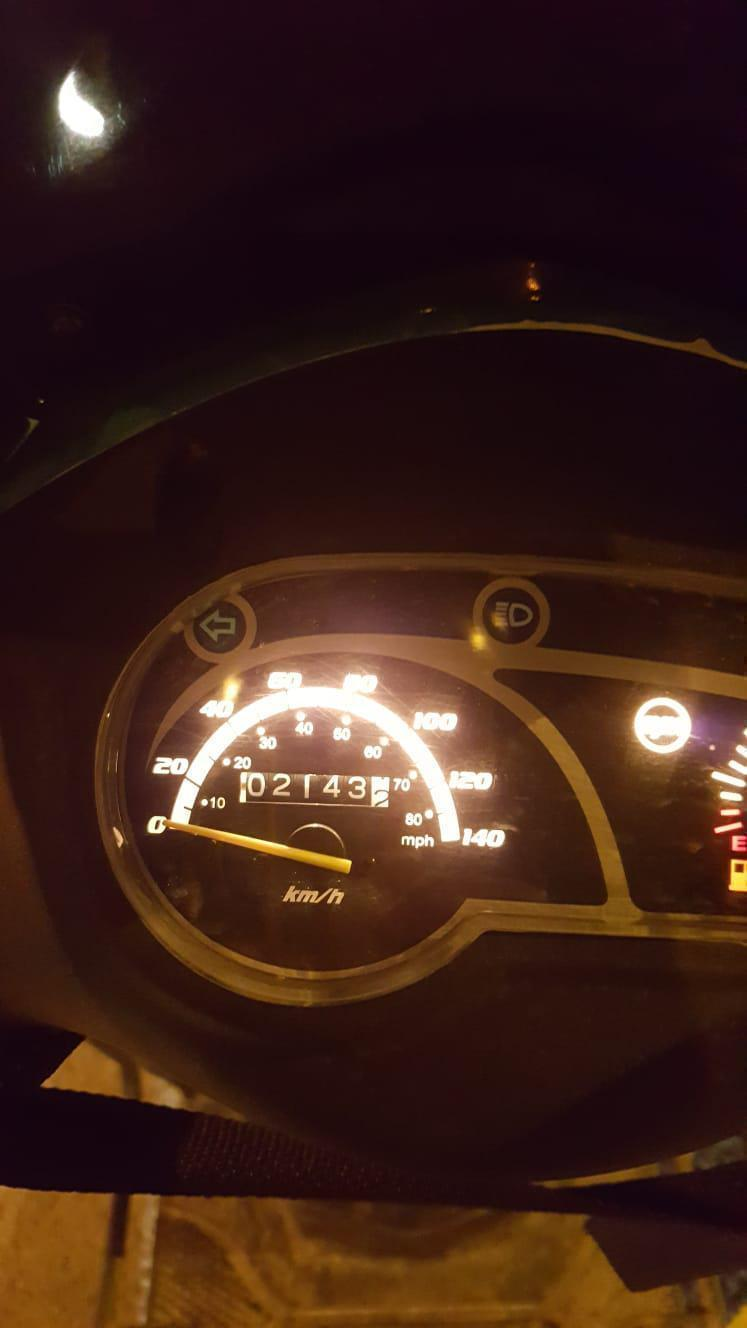0: (245, 771, 267, 798)
1: (299, 772, 314, 802)
2: (270, 772, 292, 801), (370, 786, 391, 811)
3: (347, 773, 367, 803)
4: (320, 773, 343, 799)
odometer: (238, 768, 395, 813)
